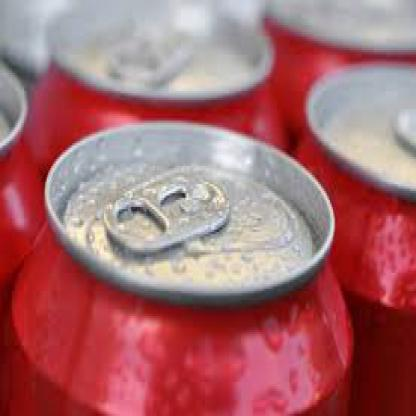Compsot: (6, 118, 353, 414), (291, 59, 414, 414), (27, 9, 286, 168), (261, 0, 414, 141), (0, 55, 45, 278)
